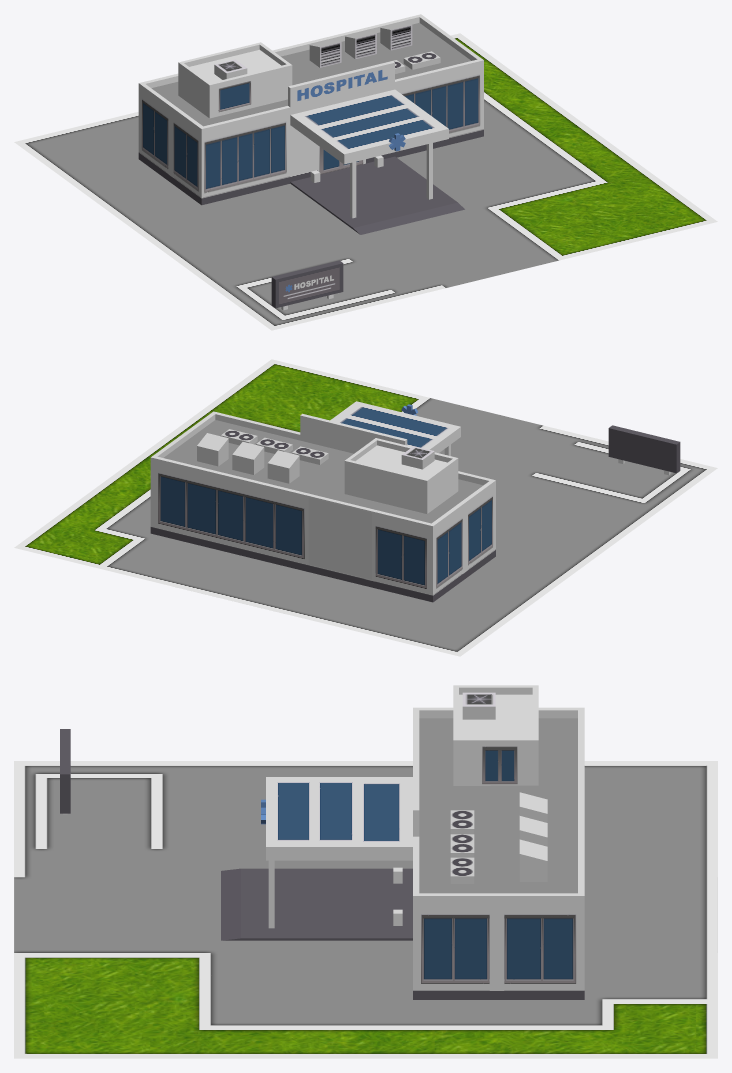
File: Hospital_Lvl_1.fbx
3 views of the same model, one above another, from view 1: azimuth 30°, elevation 25°; view 2: azimuth 150°, elevation 25°; view 3: azimuth 270°, elevation 25° (orthographic). The views are drawn at different scales.
Visible parts, largest first — view 1: Hospital_BG, Hospital_Lvl_1; view 2: Hospital_BG, Hospital_Lvl_1, Graffiti_001; view 3: Hospital_BG, Hospital_Lvl_1.
Boxes of the visible parts, <box> form: Hospital_BG: <box>14,33,717,330</box>; Hospital_Lvl_1: <box>138,14,483,310</box>; Hospital_BG: <box>14,359,717,656</box>; Hospital_Lvl_1: <box>150,401,680,602</box>; Graffiti_001: <box>308,497,371,579</box>; Hospital_BG: <box>14,761,717,1058</box>; Hospital_Lvl_1: <box>60,685,584,999</box>.
Bounding box in the file's own units: 2000 × 463 × 2000.
